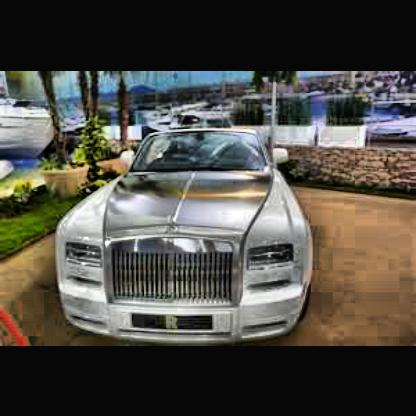Rolls-Royce Phantom Drophead Coupe Convertible 2012: (51, 122, 321, 345)
